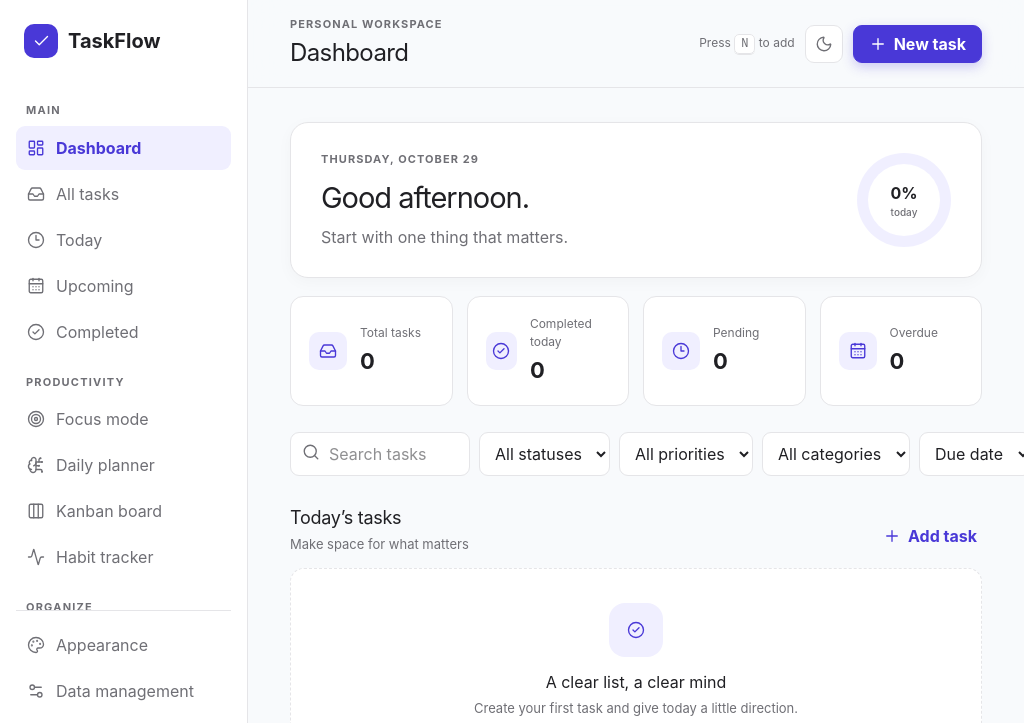
Test: TaskFlow experience › announces and associates empty habit validation
Click the button "Habit tracker": (124, 557) [16,535,231,579]
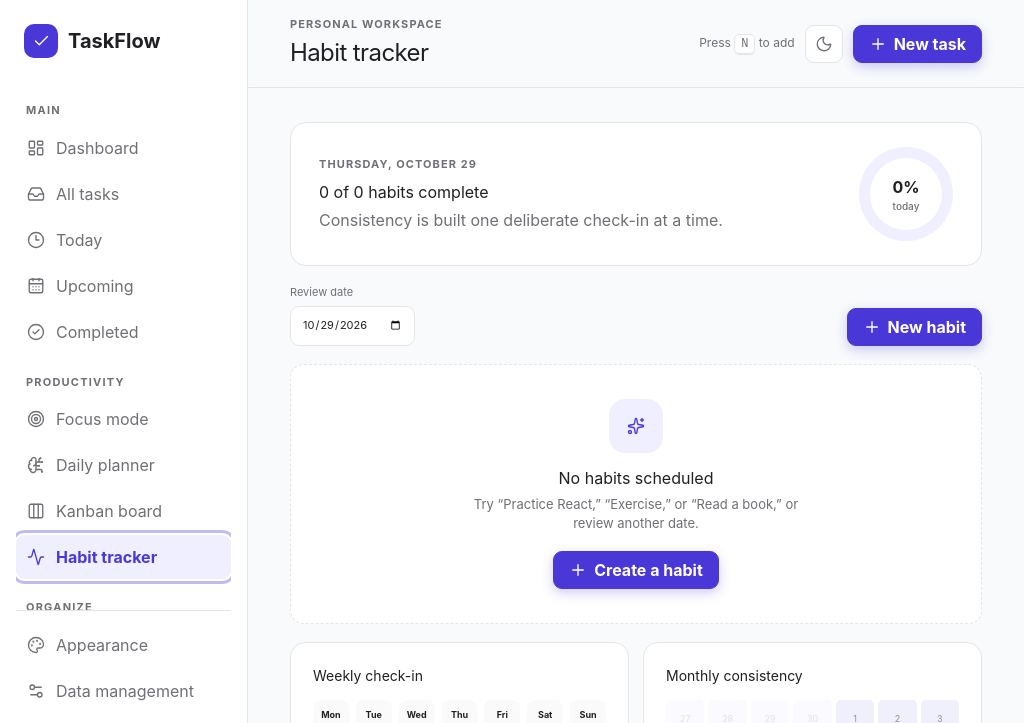
Click the button "New habit": (914, 326) [847,308,982,346]
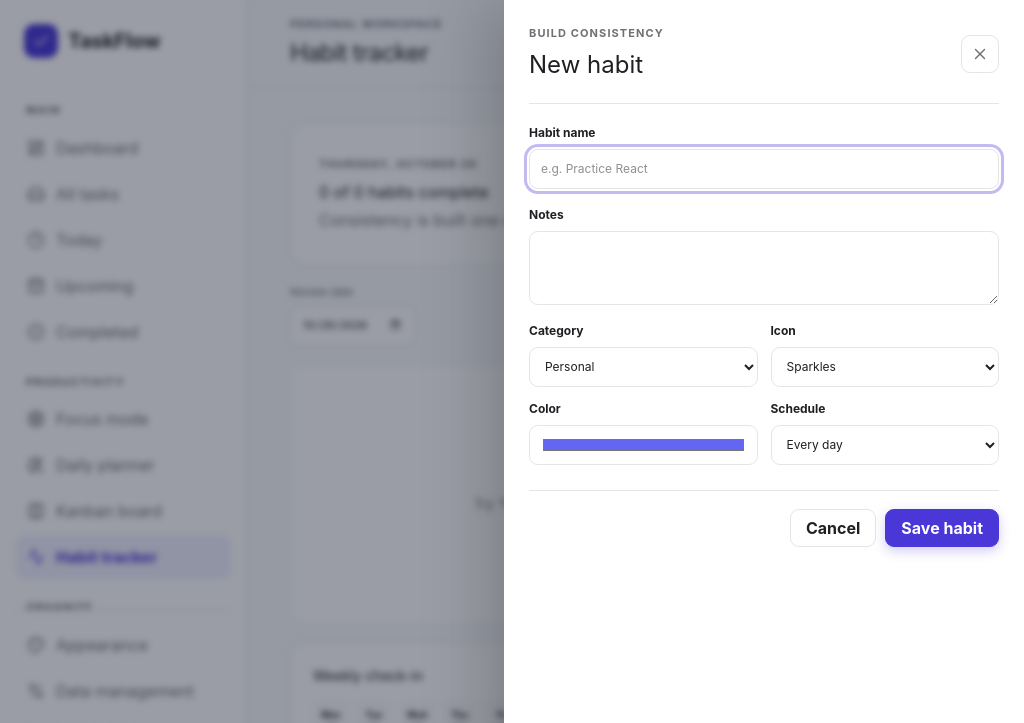
Click the button "Save habit": (942, 528) [885,508,999,546]
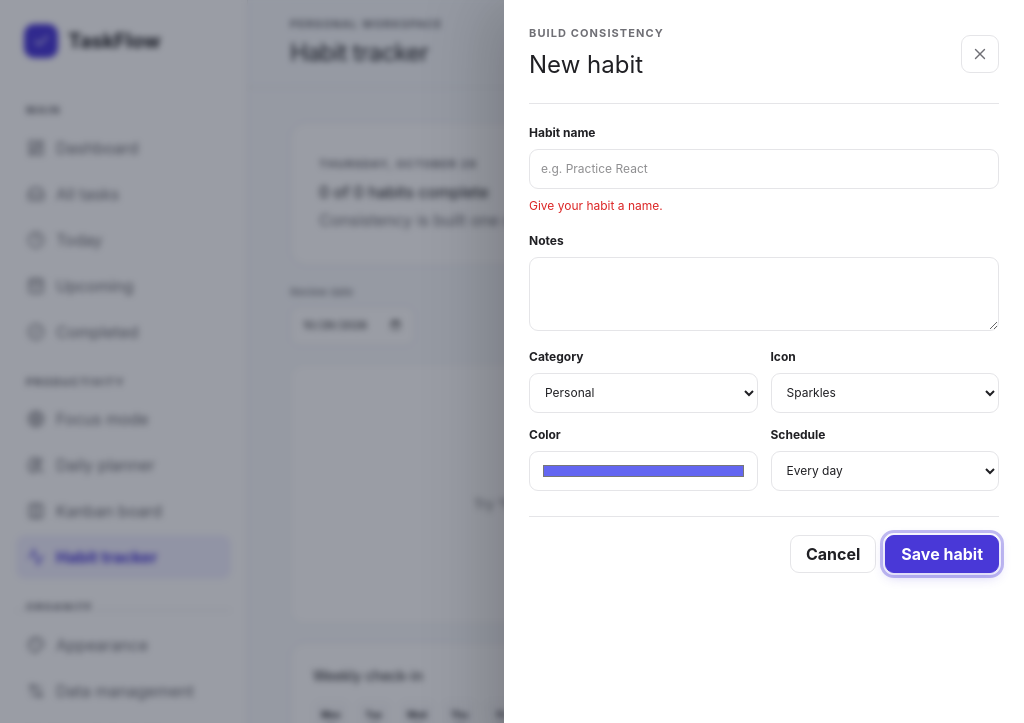
Result: the message reads "Give your habit a name." at [529,198,663,212]
